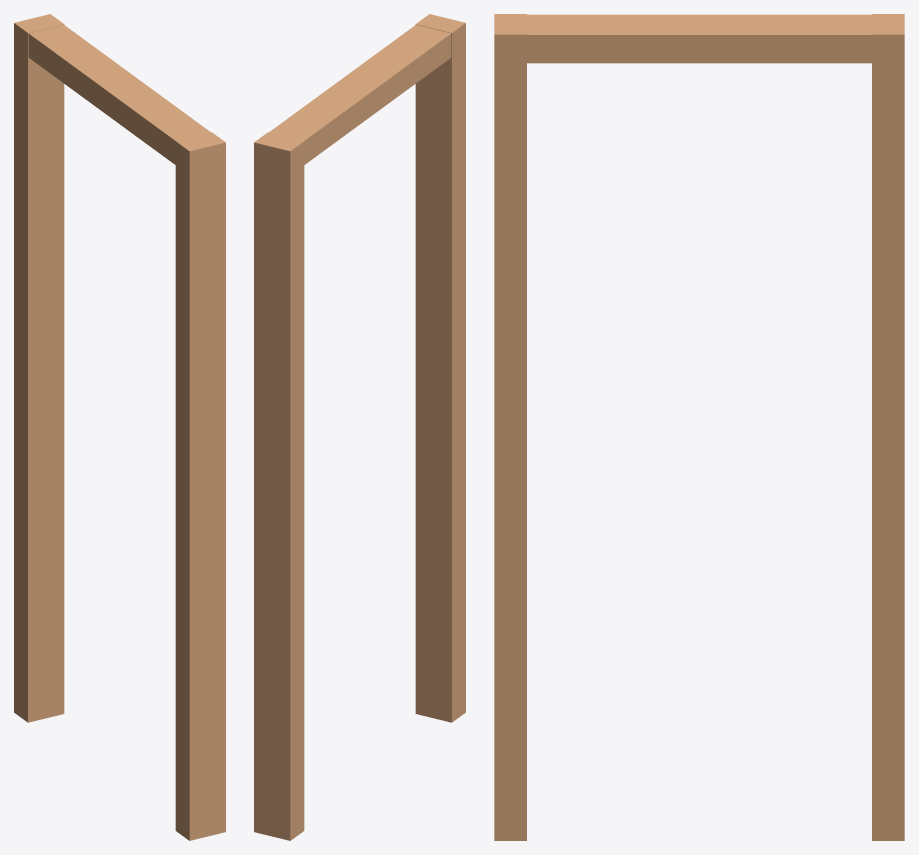
File: door_wood_border.glb
3 renders of one model, left to right at view 1: azimuth 30°, elevation 25°; view 2: azimuth 150°, elevation 25°; view 3: azimuth 270°, elevation 25°, orthographic. The views are drawn at different scales.
Visible parts, largest first — view 1: HASTES; view 2: HASTES; view 3: HASTES.
Part boxes in pixels (x1=…): HASTES: x1=14, y1=14, x2=225, y2=840; HASTES: x1=254, y1=14, x2=465, y2=840; HASTES: x1=494, y1=14, x2=904, y2=840.
Bounding box in the file's own units: 0.5351 × 9.68 × 4.47.
